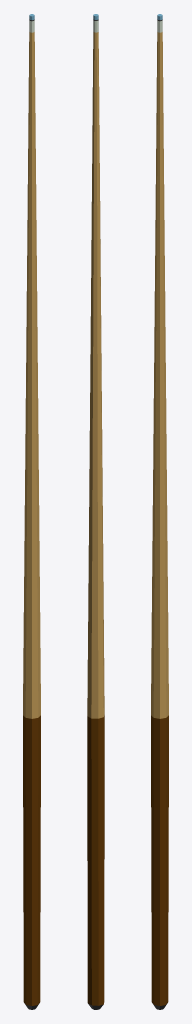
Rendered from Pool Cue.fbx.
3 views of the same model, side by side, from view 1: azimuth 90°, elevation 25°; view 2: azimuth 150°, elevation 25°; view 3: azimuth 270°, elevation 25° (orthographic).
Parts seen in each view (by area): view 1: Pool Cue; view 2: Pool Cue; view 3: Pool Cue.
Boxes of the visible parts, left/top/right/bottom form: Pool Cue: left=23, top=14, right=40, bottom=1009; Pool Cue: left=87, top=14, right=104, bottom=1009; Pool Cue: left=151, top=14, right=168, bottom=1009.
Bounding box in the file's own units: 55.65 × 3340 × 55.65.
